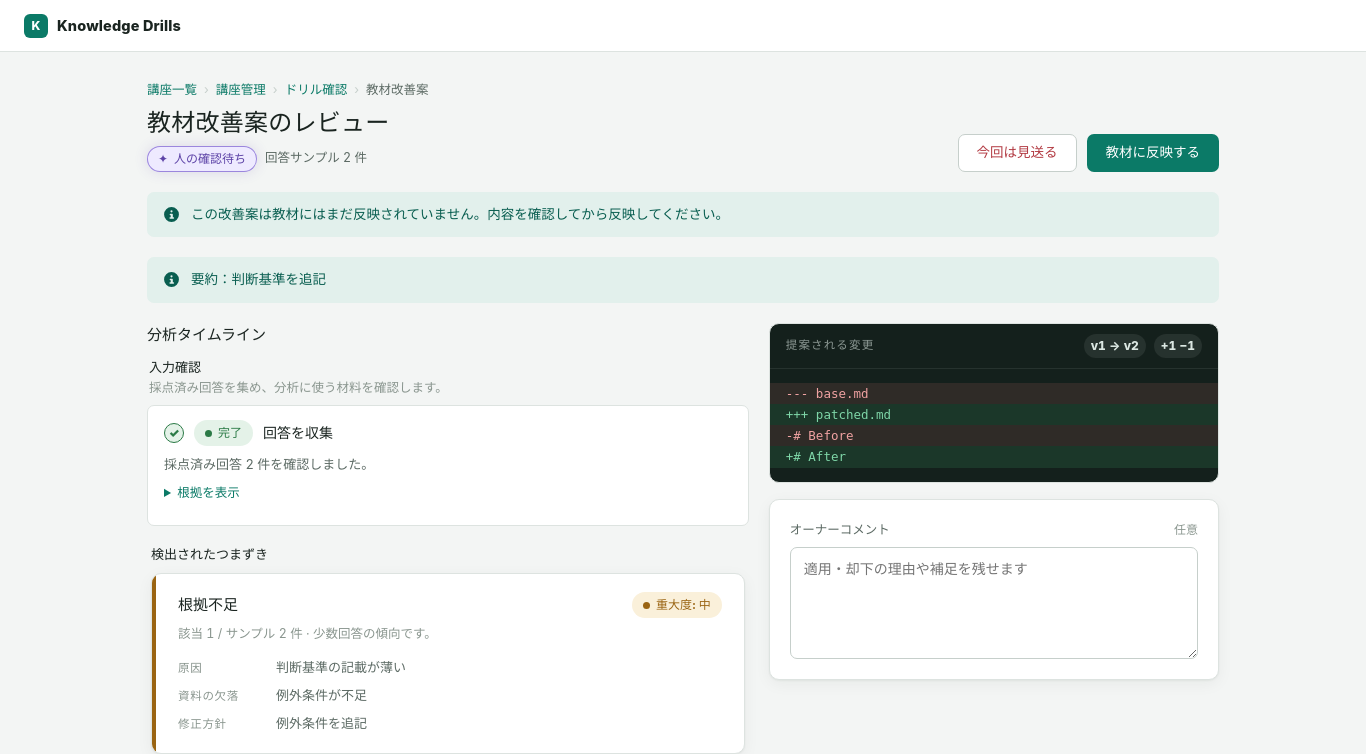
PatchReviewPage › renders analysis timeline between patch summary and failure signals
The width and height of the screenshot is (1366, 754).
Expected: the heading "回答を収集" is shown, 263,423 -> 333,444
Expected: the heading "分析タイムライン" is shown, 147,325 -> 266,344
Click the heading "根拠を表示".
click(209, 493)  # box 177,485 -> 240,500
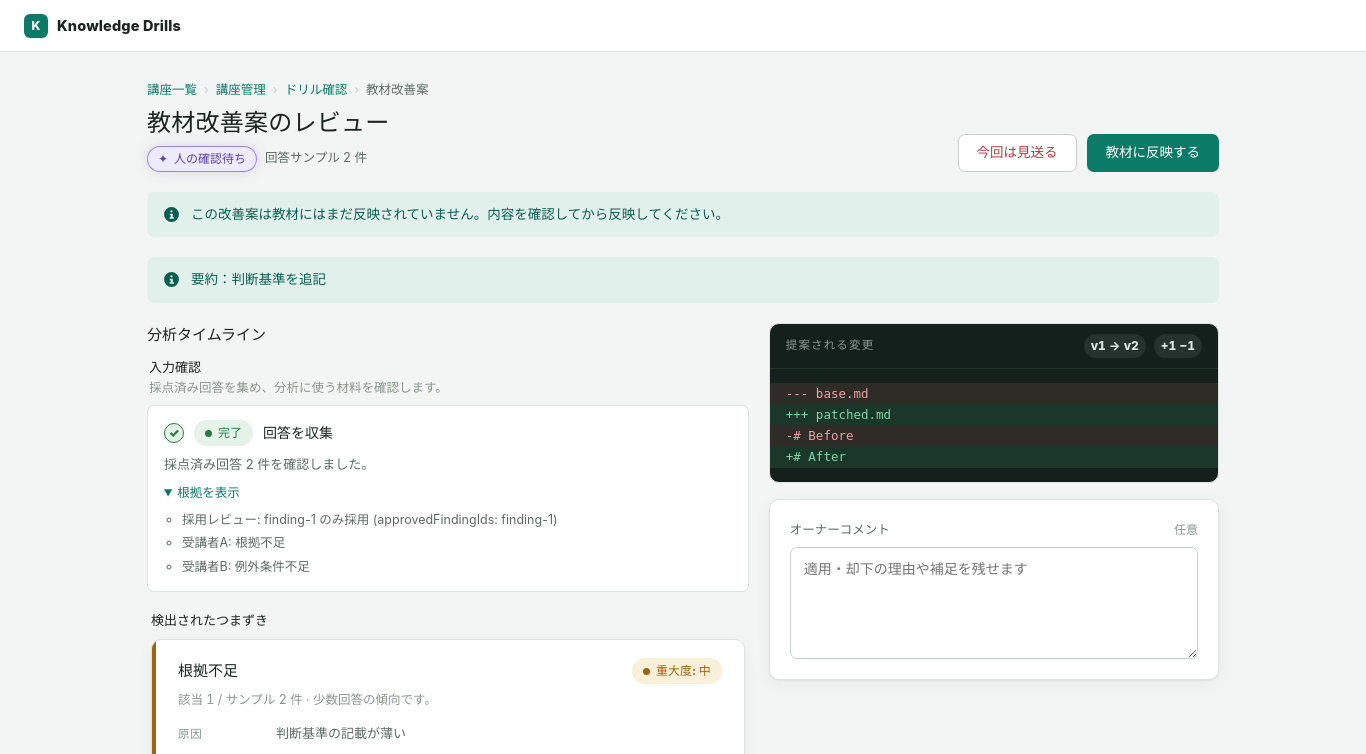
Expected: the list item "採用レビュー: finding-1 のみ採用 (approvedFindingIds: finding-1)" is shown, 182,512 -> 558,527
Expected: the list item "受講者A: 根拠不足" is shown, 182,536 -> 285,550
